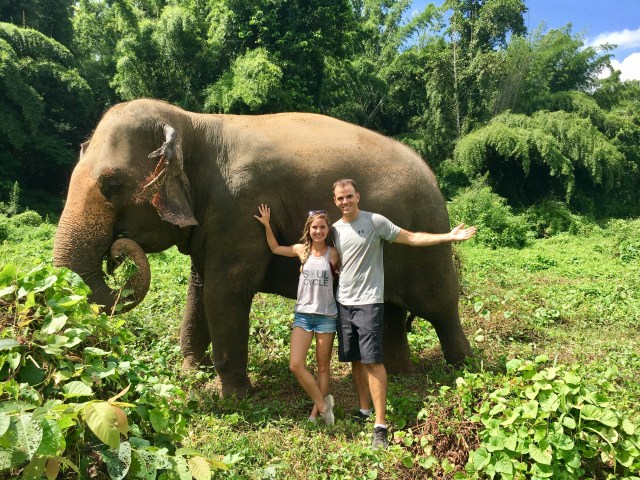elephant: (54, 89, 497, 400)
